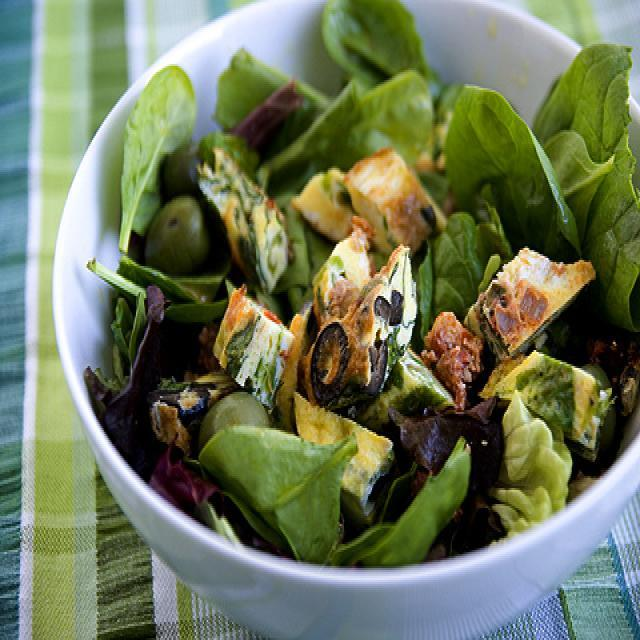Green Salad: (84, 20, 640, 555)
